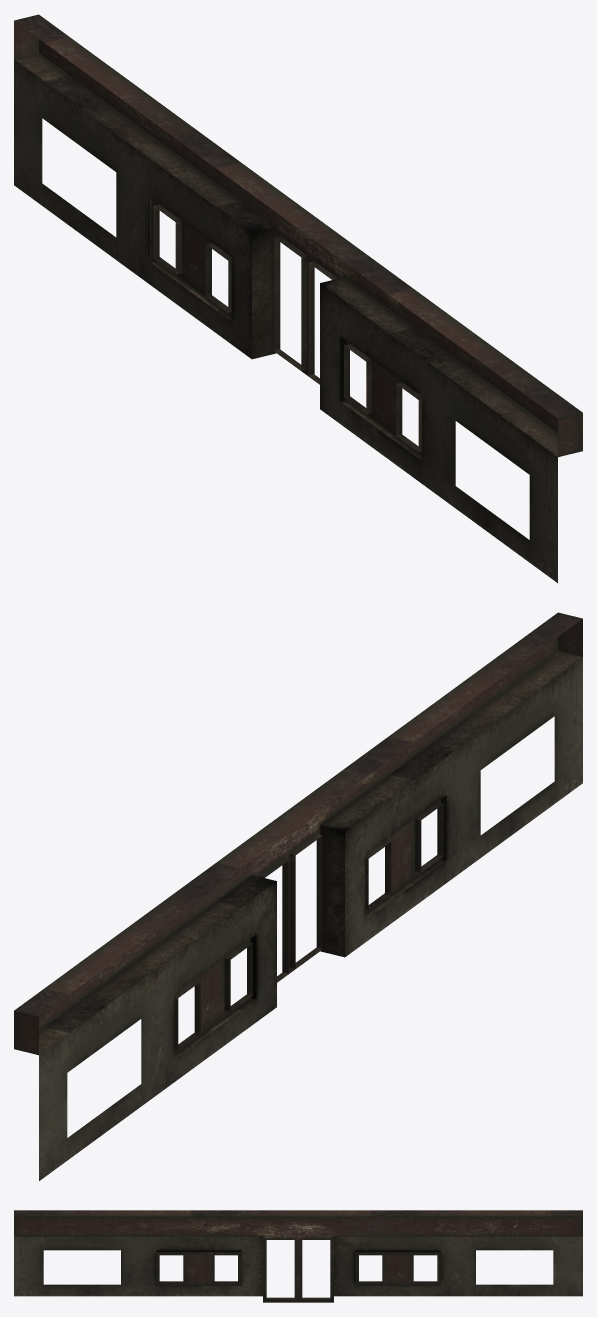
The model's file is Wall_06.FBX.
3 renders of one model, top to bottom at view 1: azimuth 30°, elevation 25°; view 2: azimuth 150°, elevation 25°; view 3: azimuth 270°, elevation 25°, orthographic. The views are drawn at different scales.
Visible parts, largest first — view 1: Wall_06; view 2: Wall_06; view 3: Wall_06.
Part boxes in pixels (bbox=[...]): Wall_06: bbox=[14, 14, 582, 582]; Wall_06: bbox=[14, 612, 582, 1180]; Wall_06: bbox=[14, 1210, 582, 1302].
Bounding box in the file's own units: 80.93 × 511 × 3061.
